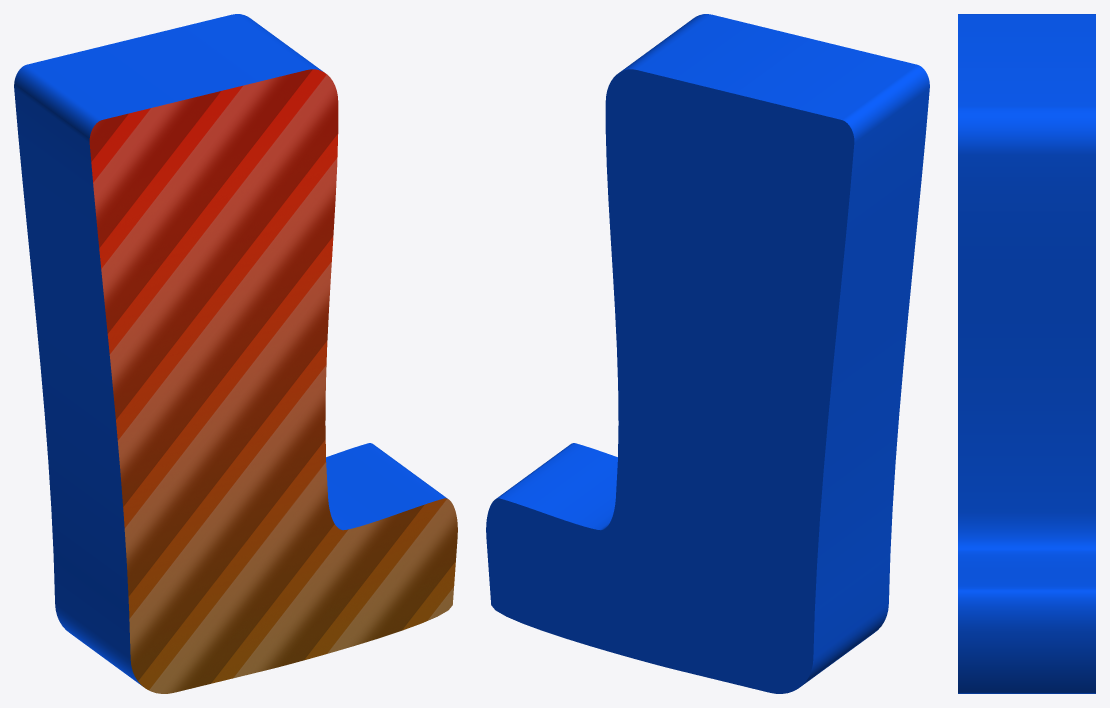
3 views of the same model, side by side, from view 1: azimuth 30°, elevation 25°; view 2: azimuth 150°, elevation 25°; view 3: azimuth 270°, elevation 25° (orthographic). The views are drawn at different scales.
Parts seen in each view (by area): view 1: L; view 2: L; view 3: L.
Boxes of the visible parts, x1,y1,x2,y2 form: L: (14,14,457,693); L: (486,14,929,693); L: (958,14,1095,693).
Size of the model in its own units: 56.29 by 86.23 by 20.
2 materials, 1 textured.
